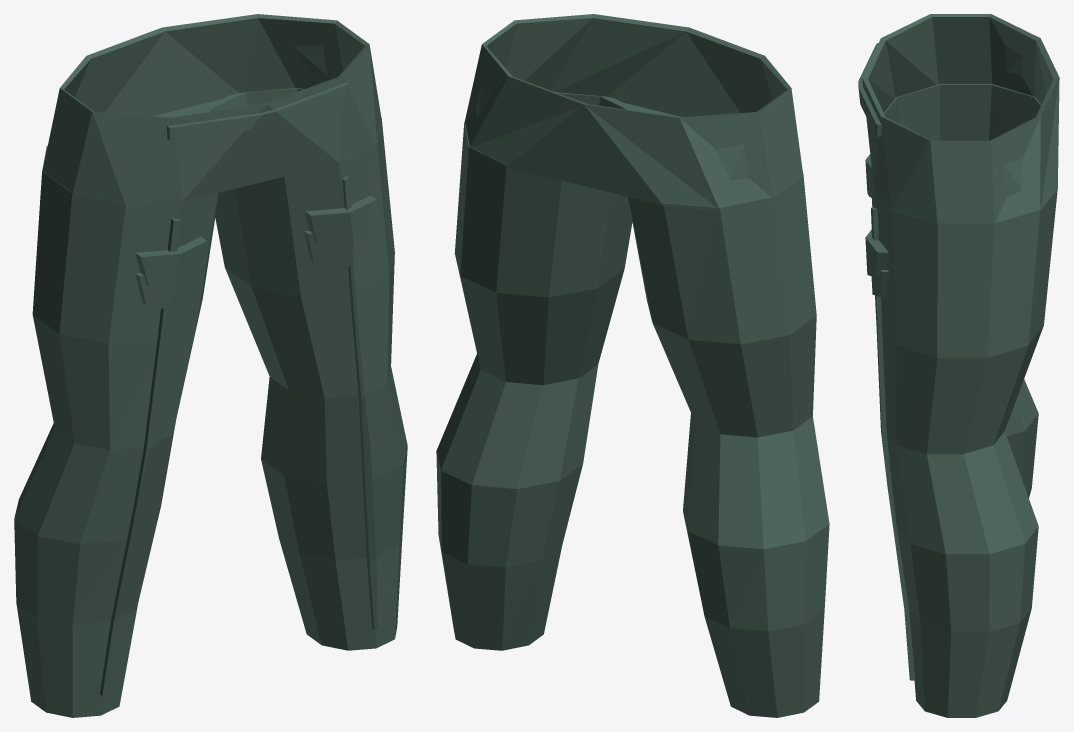
Rendered from leather_legs-male-scaledHide.glb.
3 views of the same model, side by side, from view 1: azimuth 30°, elevation 25°; view 2: azimuth 150°, elevation 25°; view 3: azimuth 270°, elevation 25° (orthographic). The views are drawn at different scales.
Visible parts, largest first — view 1: leather trouser leg -1, leather trouser leg 1, leather trouser pelvis yoke, Trouser reinforced front seam 1, Trouser reinforced front seam -1, Trouser waist facing, Lapped hide reinforcement leather trouser leg 1 0, Lapped hide reinforcement leather trouser leg -1 0, Lapped hide reinforcement leather trouser leg 1 1, Lapped hide reinforcement leather trouser leg -1 1; view 2: leather trouser leg -1, leather trouser leg 1, leather trouser pelvis yoke; view 3: leather trouser leg 1, leather trouser pelvis yoke, leather trouser leg -1, Trouser reinforced front seam 1, Lapped hide reinforcement leather trouser leg 1 0, Trouser waist facing, Lapped hide reinforcement leather trouser leg 1 1.
Part boxes in pixels (bbox=[...]): leather trouser leg -1: bbox=[14, 146, 218, 717]; leather trouser leg 1: bbox=[203, 88, 407, 650]; leather trouser pelvis yoke: bbox=[42, 14, 381, 203]; Trouser reinforced front seam 1: bbox=[342, 176, 380, 629]; Trouser reinforced front seam -1: bbox=[100, 218, 180, 695]; Trouser waist facing: bbox=[167, 82, 349, 140]; Lapped hide reinforcement leather trouser leg 1 0: bbox=[305, 195, 376, 250]; Lapped hide reinforcement leather trouser leg -1 0: bbox=[135, 236, 206, 291]; Lapped hide reinforcement leather trouser leg 1 1: bbox=[304, 218, 374, 268]; Lapped hide reinforcement leather trouser leg -1 1: bbox=[135, 259, 203, 309]; leather trouser leg -1: bbox=[628, 171, 829, 717]; leather trouser leg 1: bbox=[436, 92, 641, 650]; leather trouser pelvis yoke: bbox=[464, 14, 803, 209]; leather trouser leg 1: bbox=[874, 188, 1057, 717]; leather trouser pelvis yoke: bbox=[862, 14, 1059, 223]; leather trouser leg -1: bbox=[884, 84, 1041, 497]; Trouser reinforced front seam 1: bbox=[871, 207, 915, 680]; Lapped hide reinforcement leather trouser leg 1 0: bbox=[865, 230, 888, 277]; Trouser waist facing: bbox=[858, 43, 882, 136]; Lapped hide reinforcement leather trouser leg 1 1: bbox=[871, 270, 888, 296].
Size of the model in its own units: 2.31 by 3.57 by 1.16.
